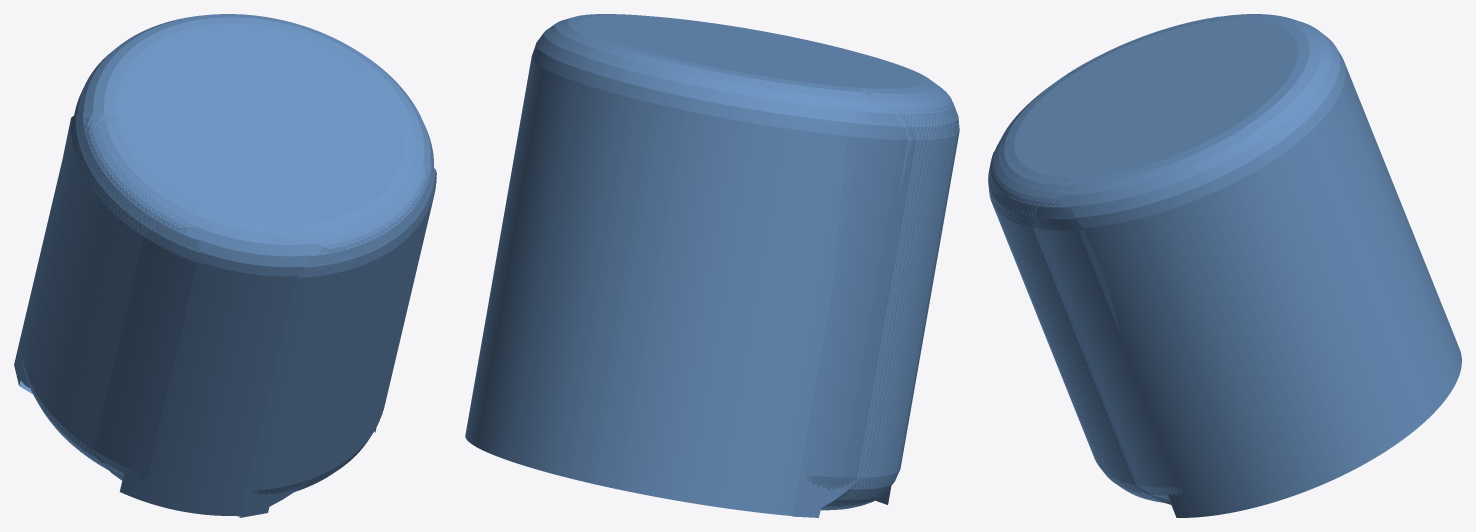
The model's file is Button_Podium2.glb.
The picture shows the model from 3 angles, left to right: view 1: azimuth 30°, elevation 25°; view 2: azimuth 150°, elevation 25°; view 3: azimuth 270°, elevation 25°; orthographic projection. The views are drawn at different scales.
Visible parts, largest first — view 1: Button; view 2: Button; view 3: Button.
Part boxes in pixels (box(x1,y1,x2,y2)): Button: box(14, 14, 436, 517); Button: box(465, 14, 959, 517); Button: box(988, 14, 1461, 517).
Bounding box in the file's own units: 0.1008 × 0.1253 × 0.1258.
